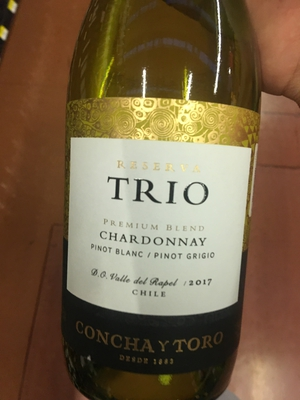trio chardonnay: (59, 13, 258, 400)
